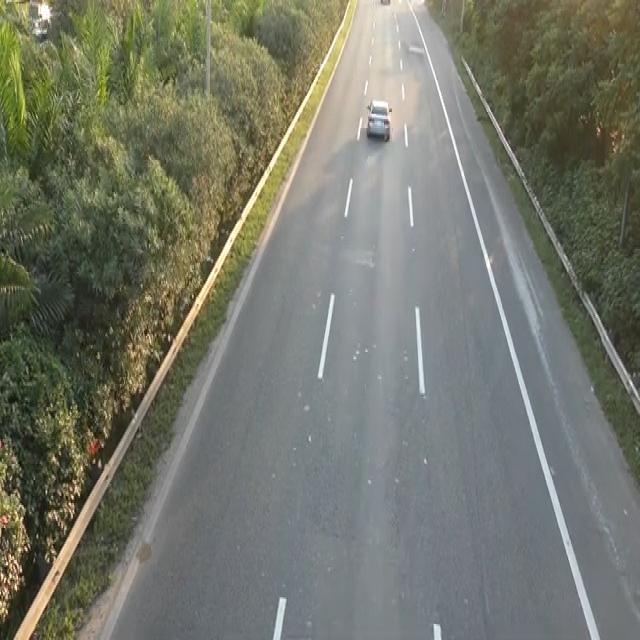bus: (364, 94, 393, 142)
